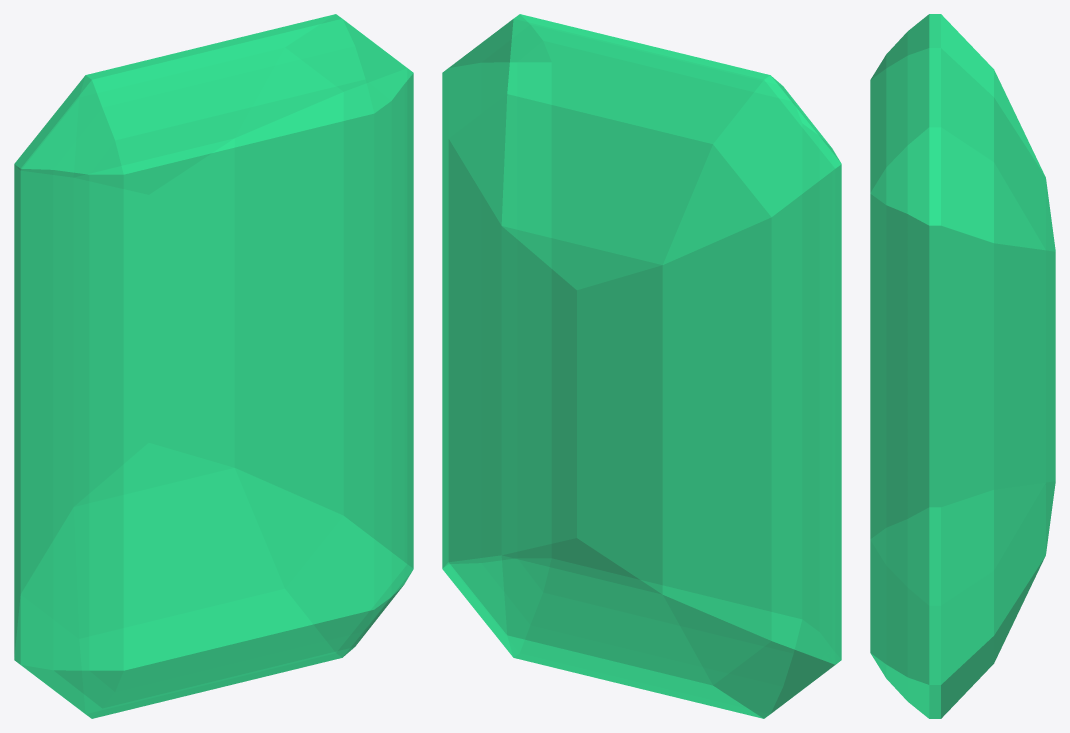
The model's file is emerald peridot.glb.
3 views of the same model, side by side, from view 1: azimuth 30°, elevation 25°; view 2: azimuth 150°, elevation 25°; view 3: azimuth 270°, elevation 25° (orthographic). The views are drawn at different scales.
Parts seen in each view (by area): view 1: Emerald; view 2: Emerald; view 3: Emerald.
Part boxes in pixels (x1,y1,x2,y2): Emerald: (14, 14, 413, 718); Emerald: (442, 14, 841, 718); Emerald: (870, 14, 1055, 718).
Size of the model in its own units: 1.29 by 2 by 0.568.
